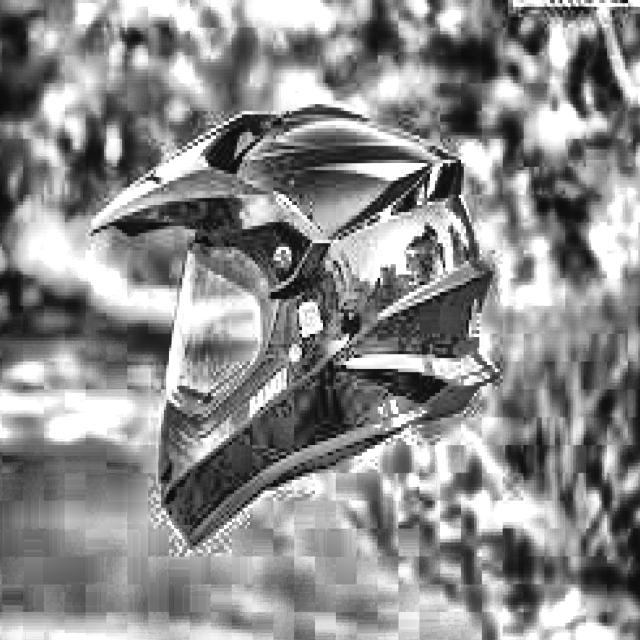Helmet: (89, 104, 509, 550)
